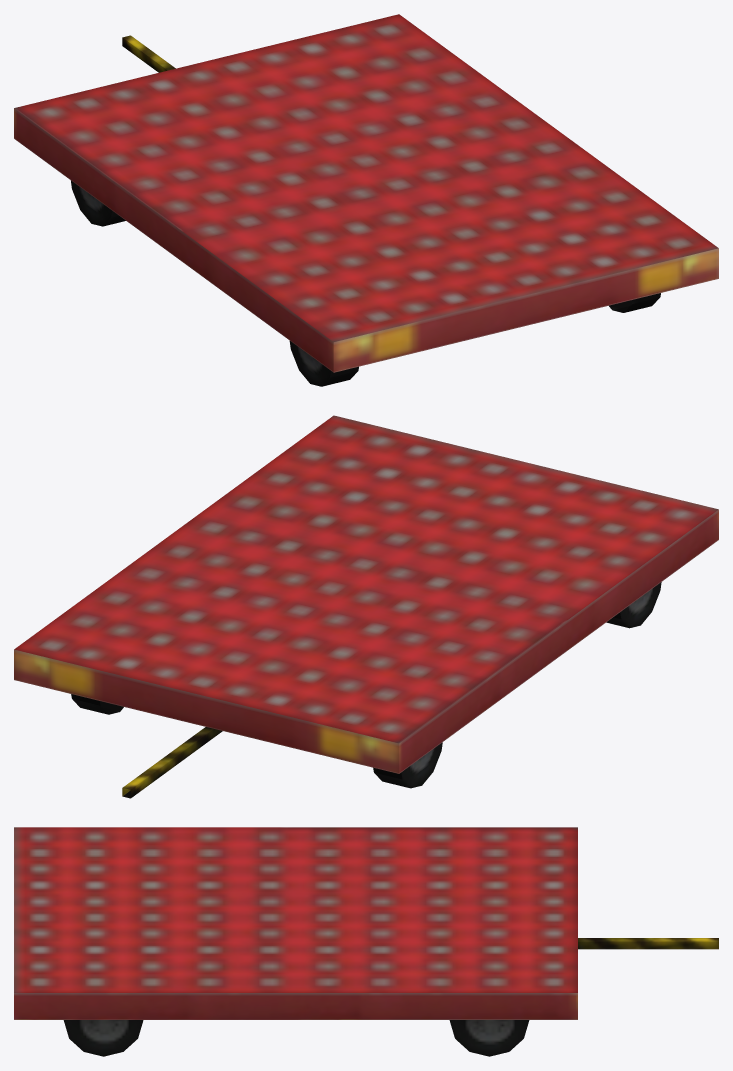
The model's file is ramp_portalataAVA_LOD0.gltf.
3 views of the same model, one above another, from view 1: azimuth 30°, elevation 25°; view 2: azimuth 150°, elevation 25°; view 3: azimuth 270°, elevation 25° (orthographic). The views are drawn at different scales.
Visible parts, largest first — view 1: node1; view 2: node1; view 3: node1.
Boxes of the visible parts, bbox=[...] form: node1: bbox=[14, 14, 718, 386]; node1: bbox=[14, 415, 718, 798]; node1: bbox=[14, 827, 718, 1056].
Bounding box in the file's own units: 1.85 × 0.3927 × 3.33.
